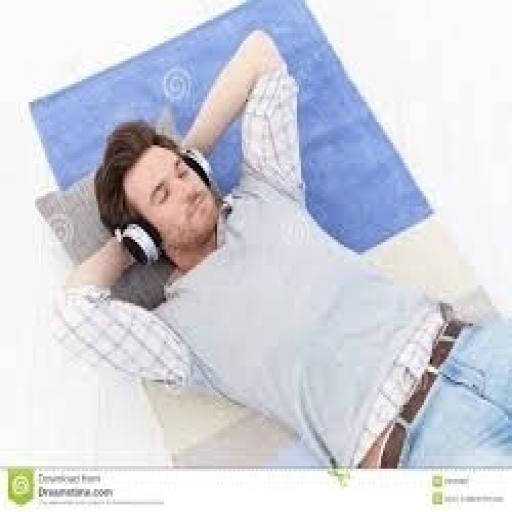listening_to_music: (47, 26, 510, 468)
